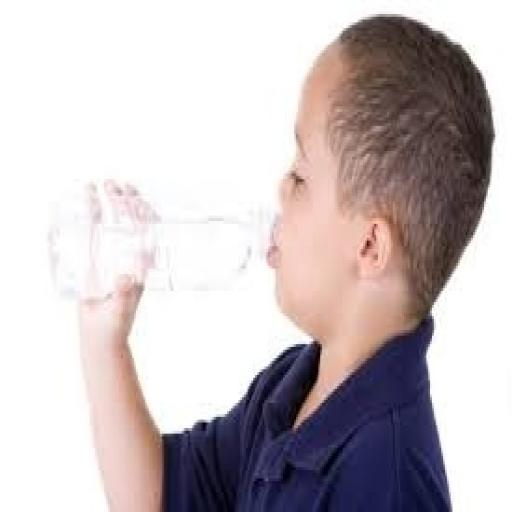drinking: (44, 174, 274, 302)
